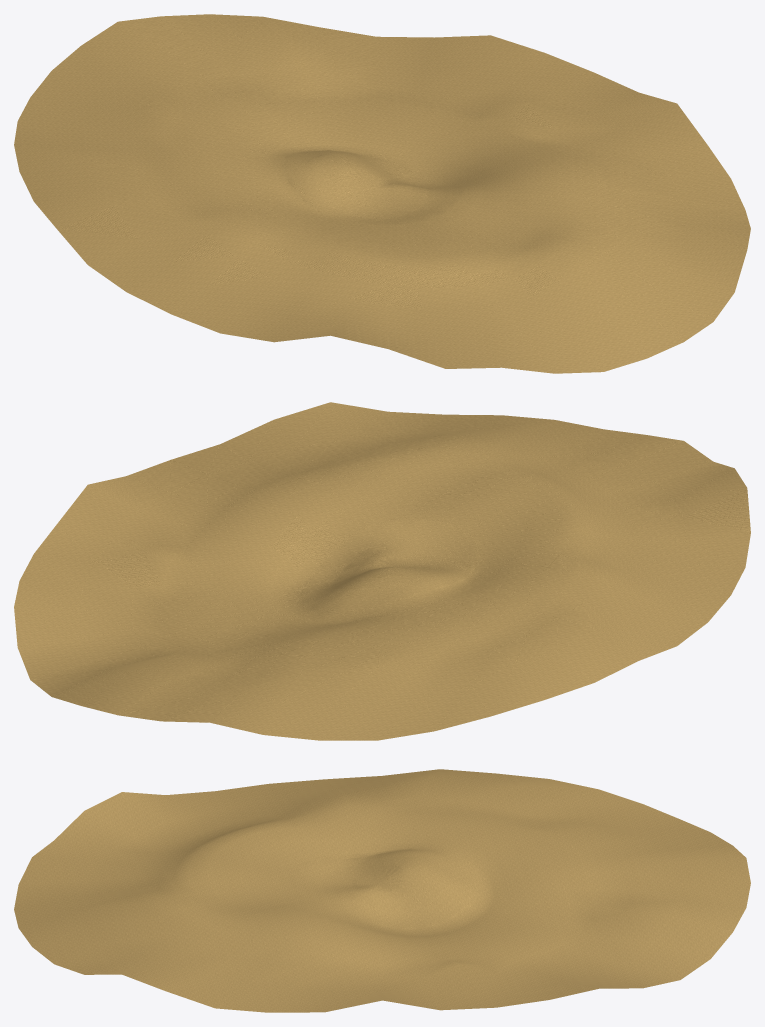
The model's file is sandFloorMapped3.fbx.
3 views of the same model, one above another, from view 1: azimuth 30°, elevation 25°; view 2: azimuth 150°, elevation 25°; view 3: azimuth 270°, elevation 25° (orthographic). The views are drawn at different scales.
Parts seen in each view (by area): view 1: DesertTerrain; view 2: DesertTerrain; view 3: DesertTerrain.
Part boxes in pixels (x1,y1,x2,y2): DesertTerrain: (14,14,750,373); DesertTerrain: (14,402,750,740); DesertTerrain: (14,769,750,1012).
Size of the model in its own units: 54.99 by 4.05 by 71.51.
1 material, 1 textured.
